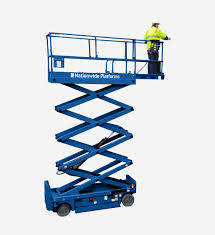Scissor Lift: (43, 31, 165, 217)
